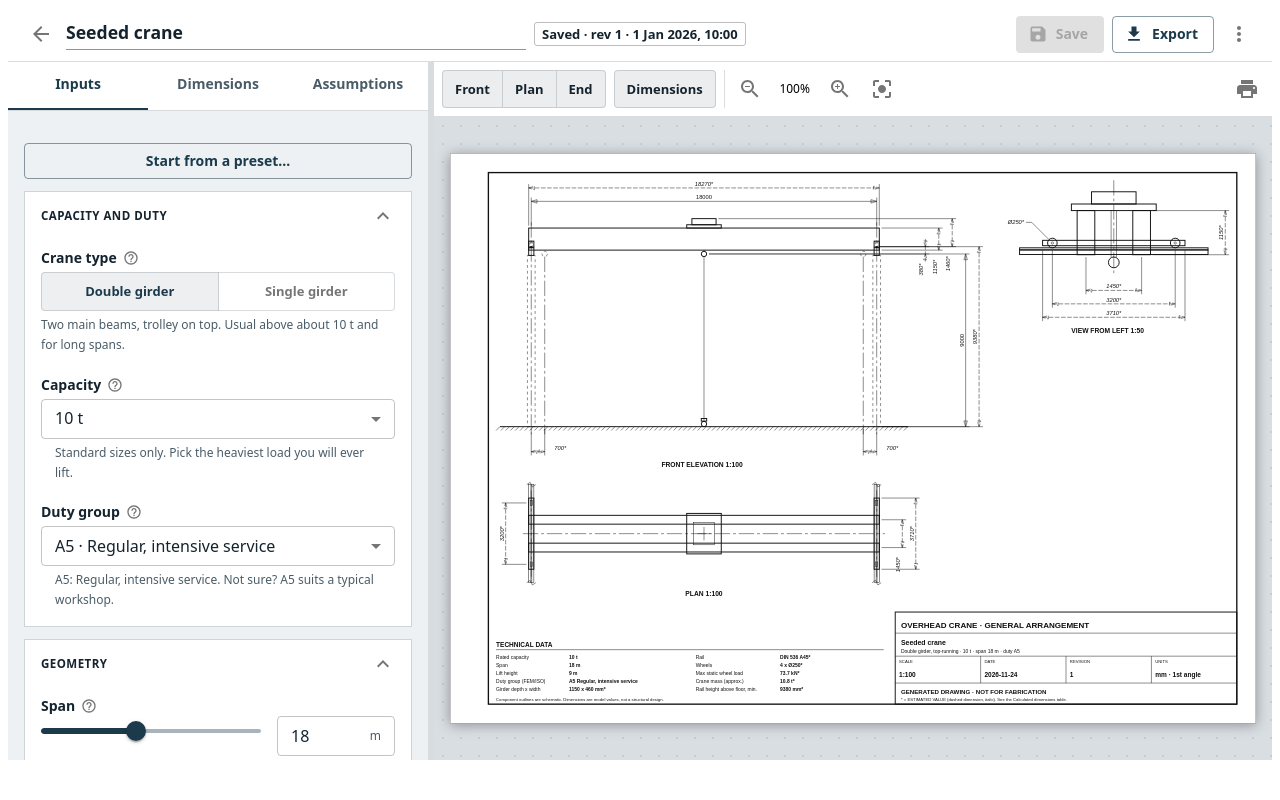
Scenario: editor: conflicts and safety › "Load the newer version" replaces my edits with the server copy
Type " (mine)" into the field named "Design name" at [296, 34], box [66, 19, 526, 50]
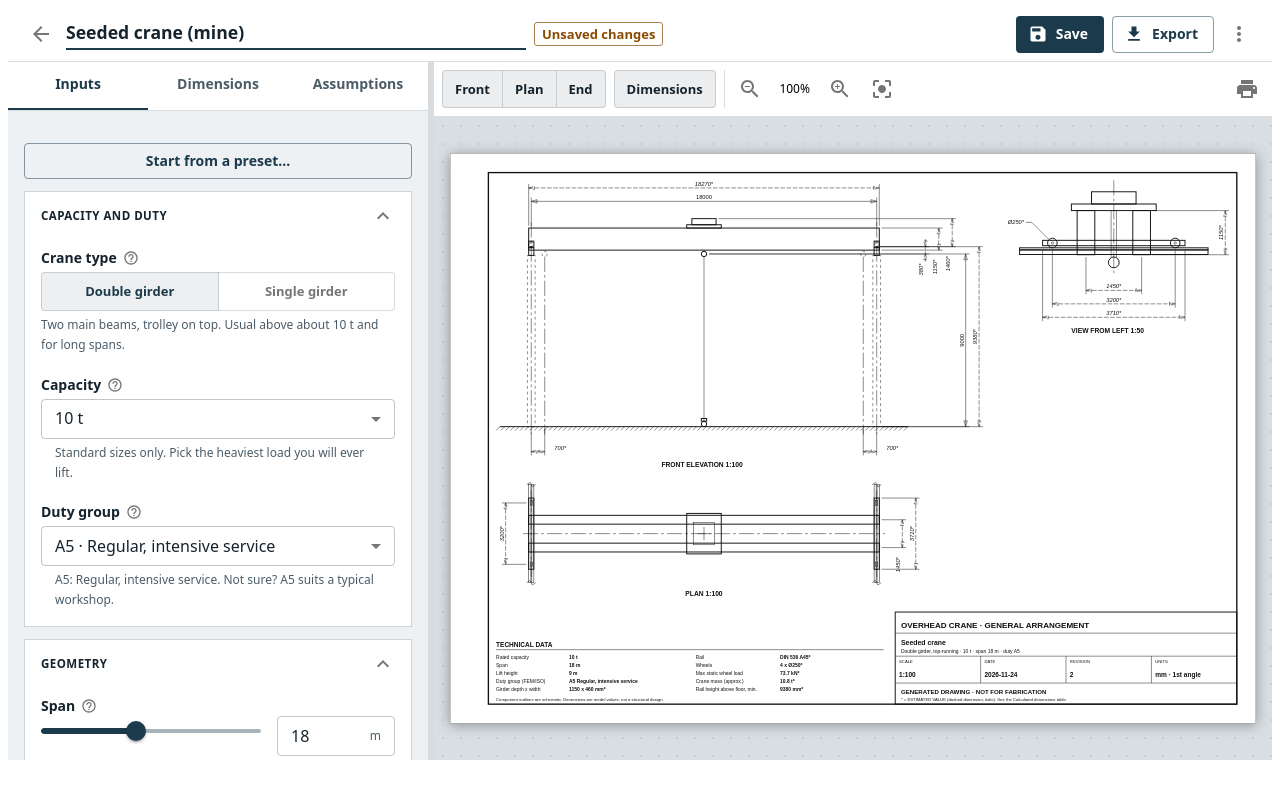
Click the button with test id "save-button" at [1060, 34], box [1016, 16, 1104, 52]
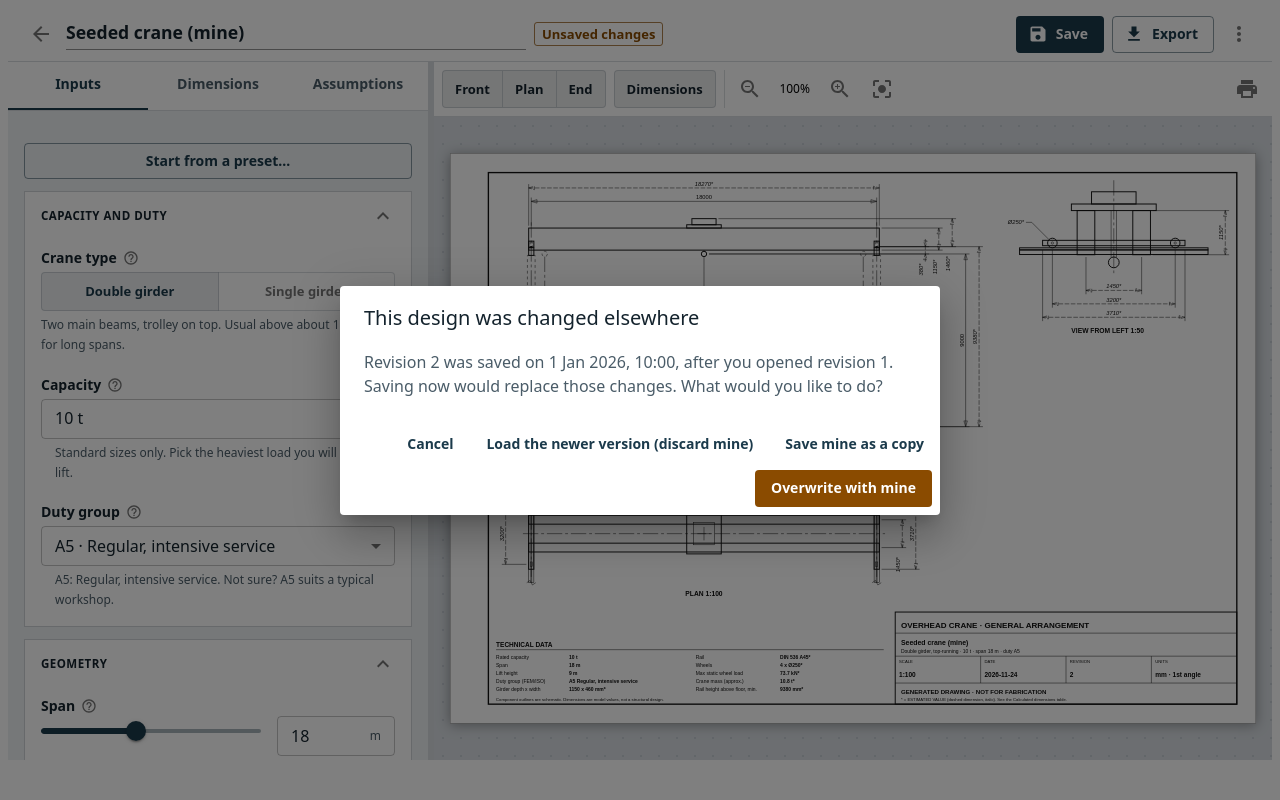
Click the button "Load the newer version (discard mine)" at [620, 444], box [478, 426, 761, 462]
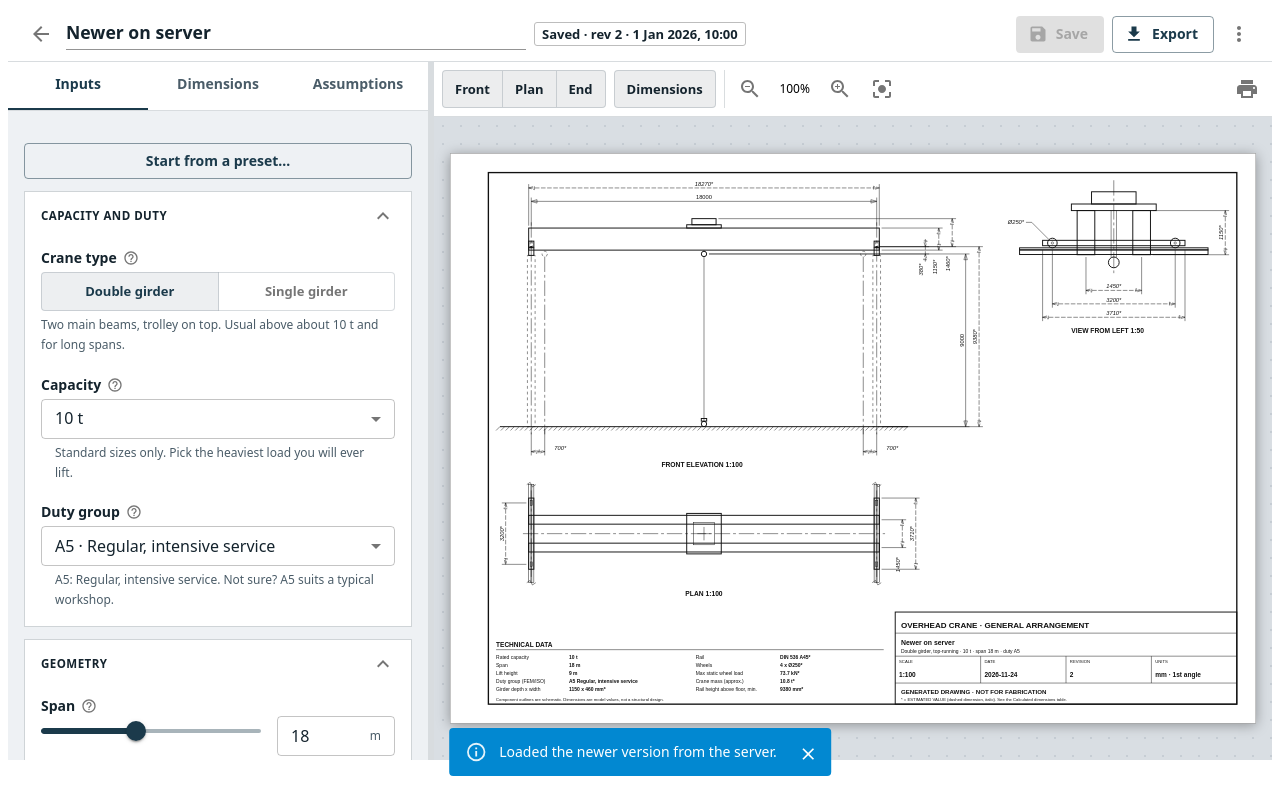
Expected: the field named "Design name" holds "Newer on server", [66, 19, 526, 50]
Expected: the element with test id "saved-chip" shows "rev 2", [542, 25, 738, 43]
